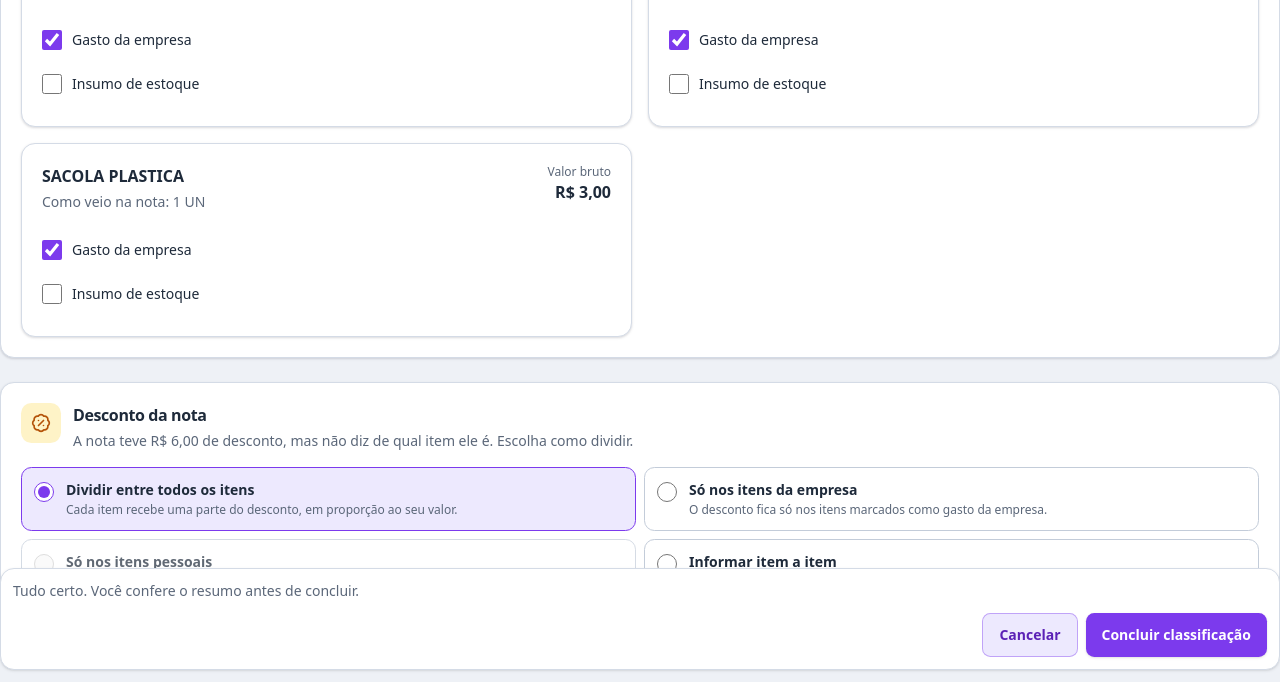
Test: the way the discount is spread › switches "only the personal items" off, with the reason, while every line is a company expense
The width and height of the screenshot is (1280, 682).
(page scrolled)
Expected: the radio button labelled "Só nos itens pessoais" is disabled, 34,554 -> 54,574
Click the checkbox labelled "Gasto da empresa" below "1 UN" at (52, 250), box 42,240 -> 62,260
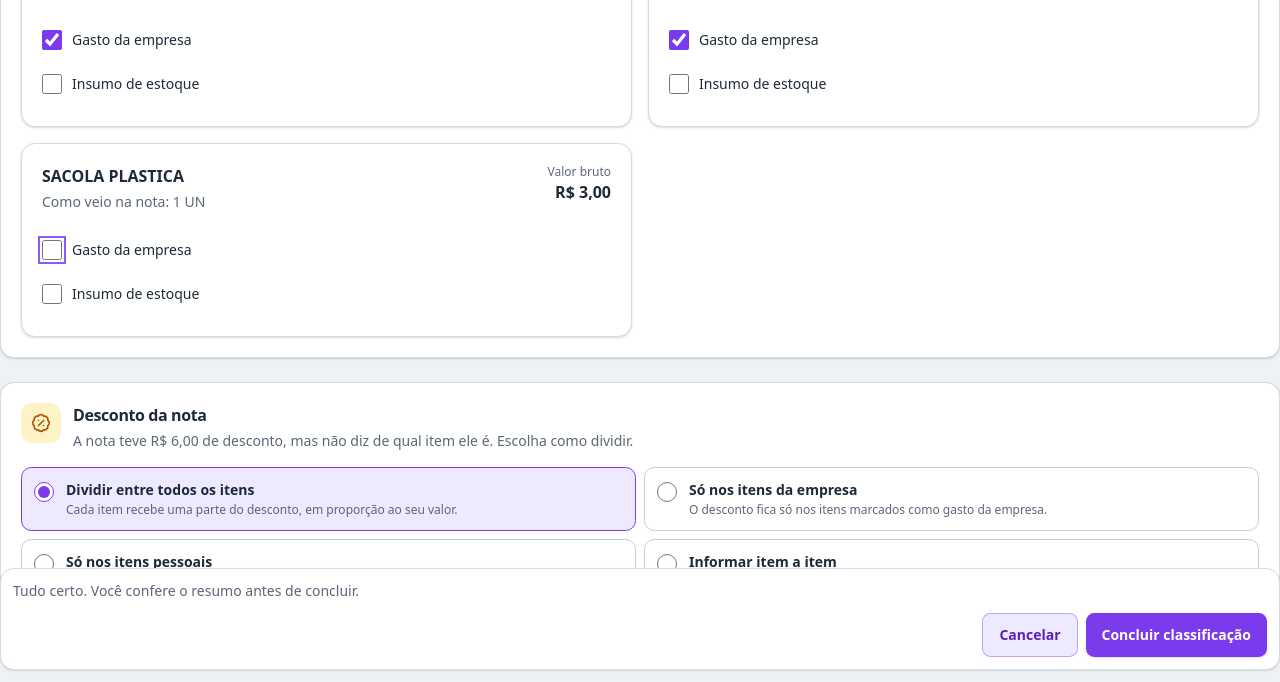
Now the radio button labelled "Só nos itens pessoais" is enabled, box 34,554 -> 54,574
